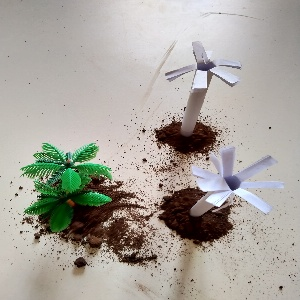plant: (24, 144, 106, 235)
weed: (180, 133, 287, 226), (157, 34, 233, 147)
